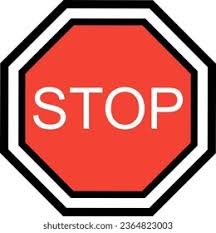stop sign: (1, 1, 215, 216)
